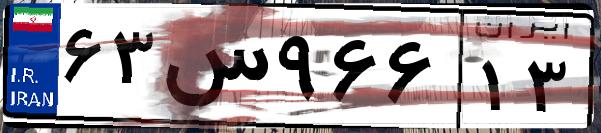1: (475, 38, 525, 113)
3: (525, 38, 570, 115), (110, 28, 158, 98)
6: (385, 28, 445, 110), (330, 28, 385, 110), (57, 26, 110, 100)
9: (270, 28, 330, 110)
س: (158, 20, 270, 120)
